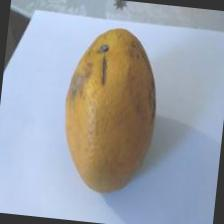Orange Rotten: (52, 15, 170, 208)
